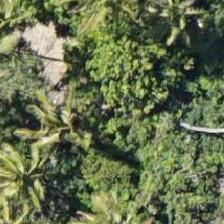coconut_tree: (0, 117, 55, 207), (69, 176, 159, 223)
